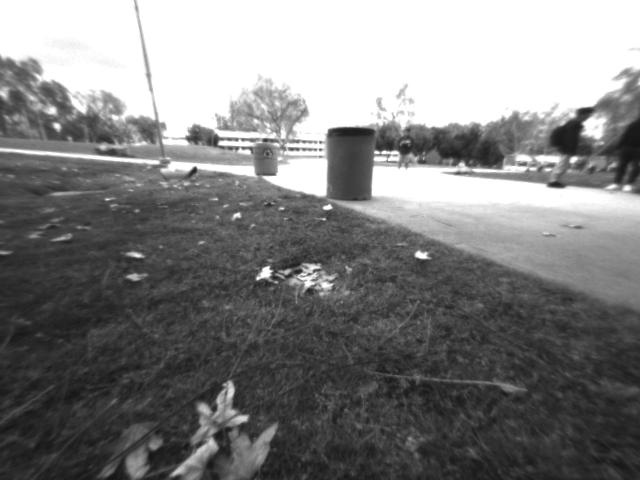trashcan: (319, 126, 377, 205), (251, 140, 286, 187)
